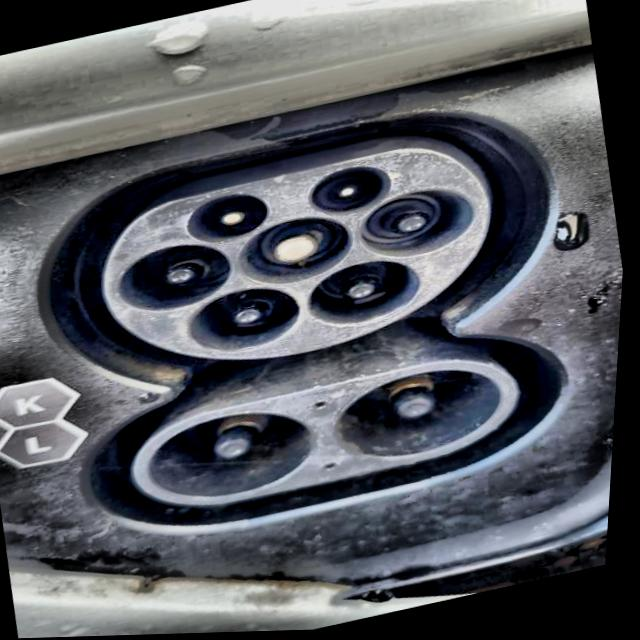inlet: (106, 150, 495, 360)
inlet-above-left: (190, 196, 273, 244)
inlet-above-right: (313, 169, 394, 217)
inlet-below-left: (196, 289, 306, 353)
inlet-below-right: (312, 263, 425, 328)
inlet-center: (243, 218, 354, 286)
inlet-center-left: (123, 246, 234, 311)
inlet-center-right: (363, 192, 475, 260)
